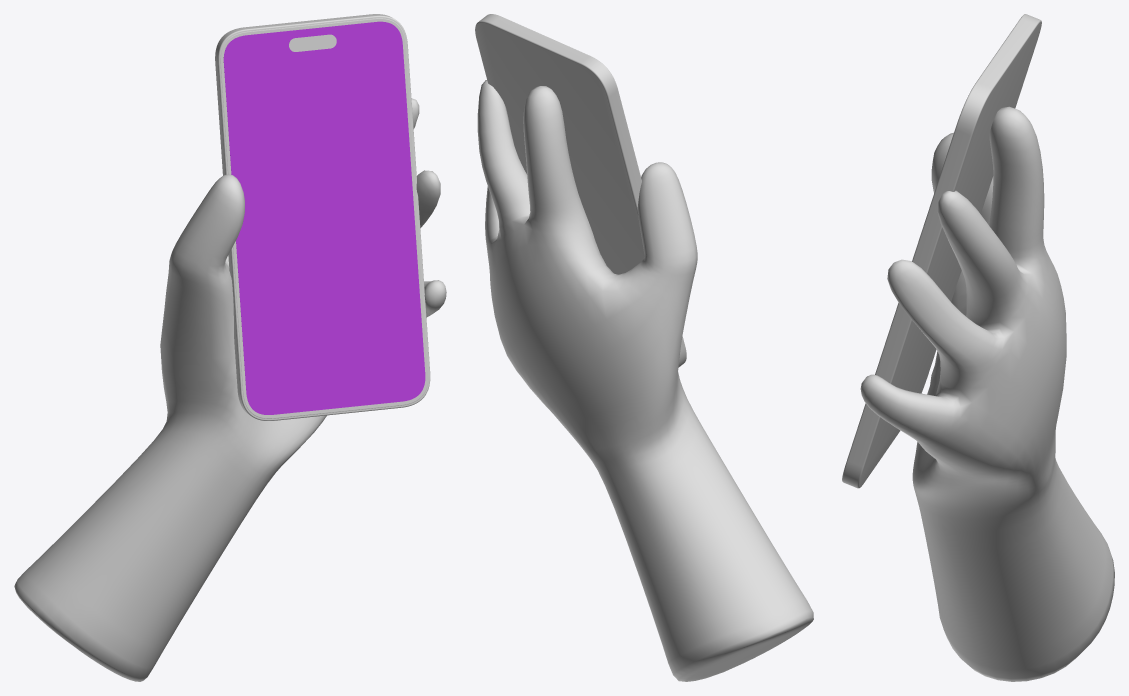
The model's file is handModel.glb.
3 renders of one model, left to right at view 1: azimuth 30°, elevation 25°; view 2: azimuth 150°, elevation 25°; view 3: azimuth 270°, elevation 25°, orthographic. The views are drawn at different scales.
Visible parts, largest first — view 1: Place your image here 2.001, hand.001, Front, Body.001, Boolean 2; view 2: hand.001, Body.001; view 3: hand.001, Body.001.
Boxes of the visible parts, <box> form: Place your image here 2.001: <box>223,21,425,414</box>; hand.001: <box>14,98,446,681</box>; Front: <box>220,18,428,418</box>; Body.001: <box>215,14,430,420</box>; Boolean 2: <box>289,34,336,51</box>; hand.001: <box>477,80,813,681</box>; Body.001: <box>475,14,686,367</box>; hand.001: <box>860,106,1114,681</box>; Body.001: <box>842,14,1041,488</box>.
Size of the model in its own units: 5.49 by 8.84 by 3.01.
